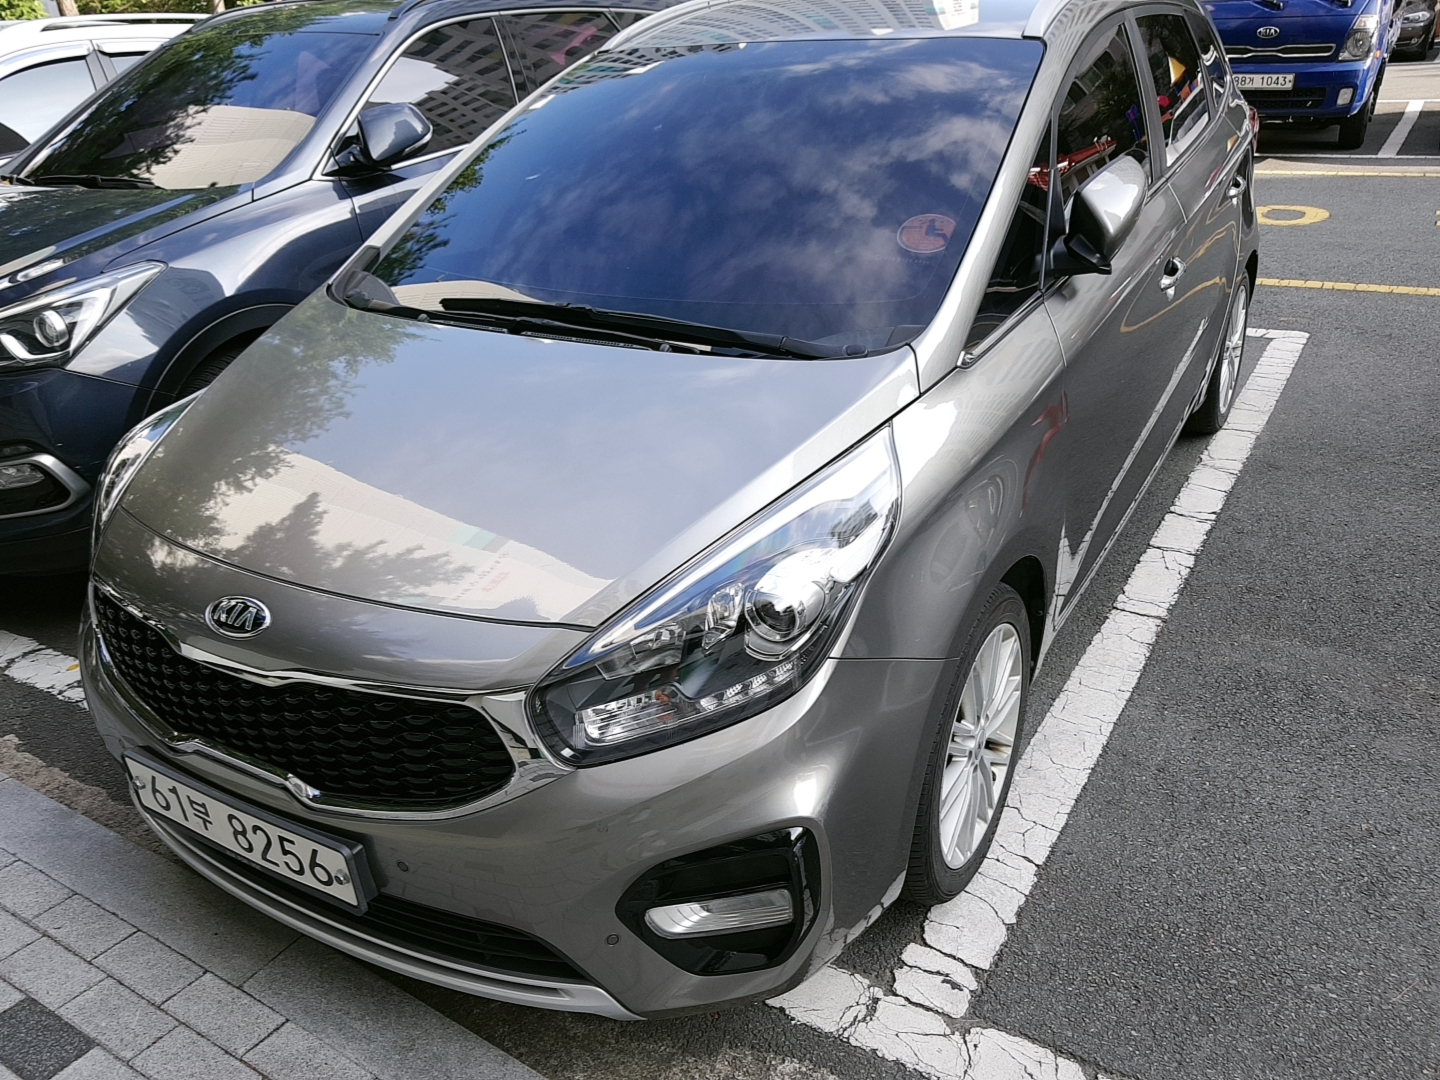disabled_parking: (886, 200, 963, 260)
